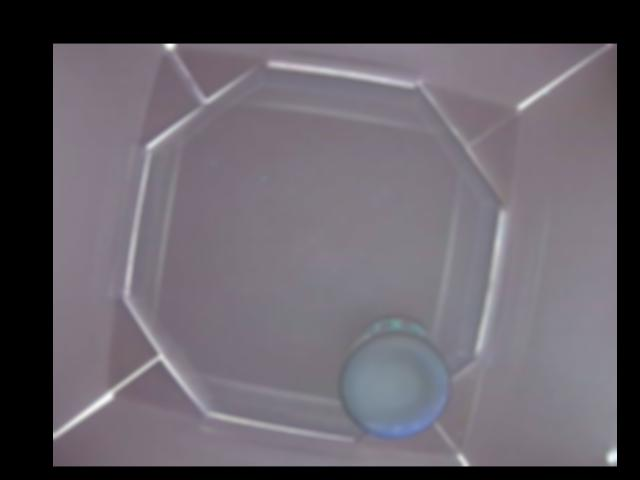Bottle: (337, 317, 452, 439)
